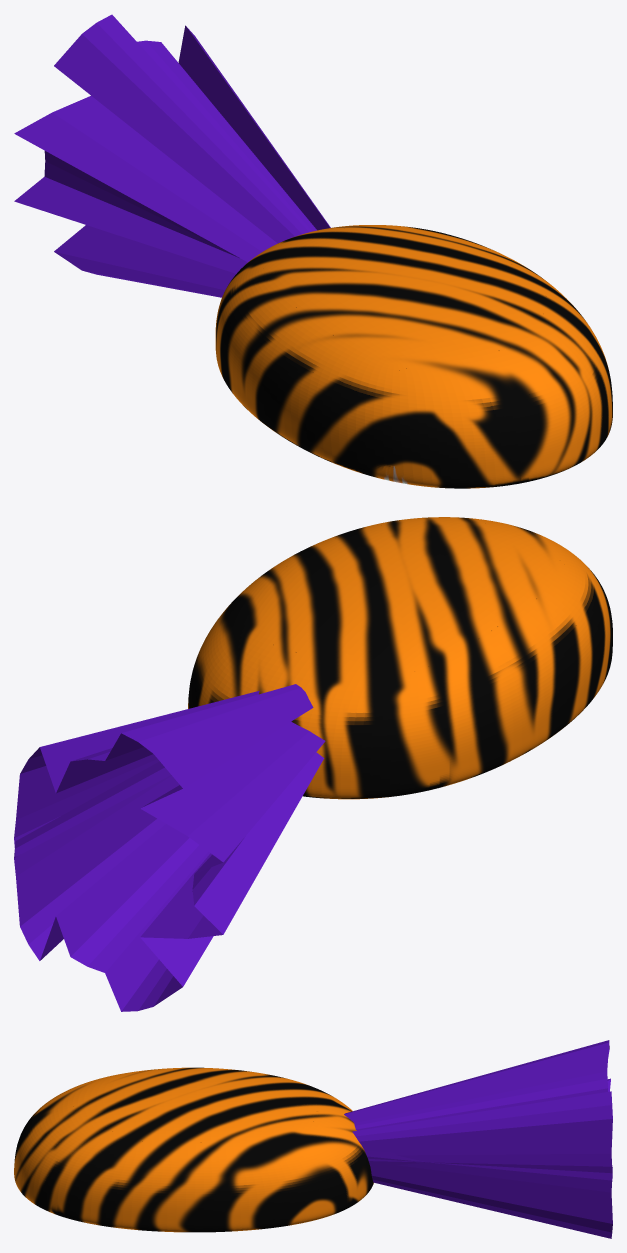
3 views of the same model, one above another, from view 1: azimuth 30°, elevation 25°; view 2: azimuth 150°, elevation 25°; view 3: azimuth 270°, elevation 25° (orthographic). The views are drawn at different scales.
Parts seen in each view (by area): view 1: Cube, Cone.002, Cone.001; view 2: Cube, Cone.001, Cone.002; view 3: Cube, Cone.002, Cone.001.
Part boxes in pixels (x1,y1,x2,y2): Cube: (215,225,612,488); Cone.002: (14,14,330,262); Cone.001: (14,161,247,297); Cube: (188,517,612,799); Cone.001: (14,752,324,1011); Cone.002: (14,684,325,891); Cube: (14,1067,373,1232); Cone.002: (344,1040,612,1178); Cone.001: (365,1150,612,1238).
Size of the model in its own units: 184 by 153 by 434.
2 materials, 1 textured.
